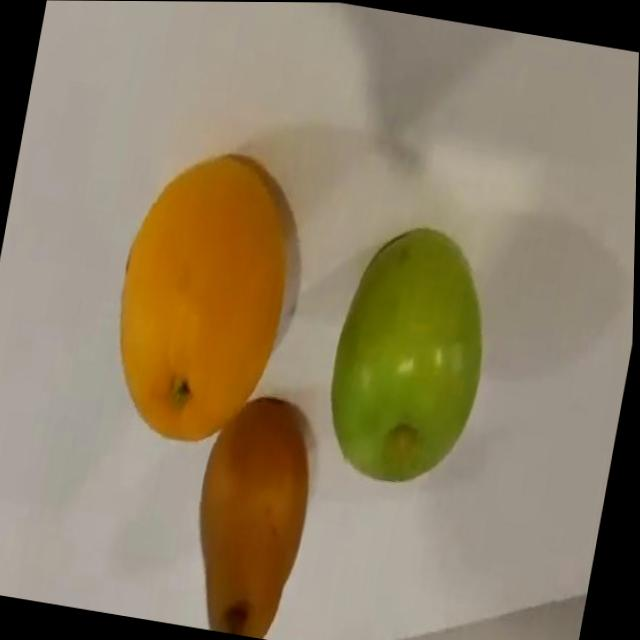Apple: (317, 216, 507, 493), (180, 387, 329, 640)
Orange: (98, 137, 325, 455)
